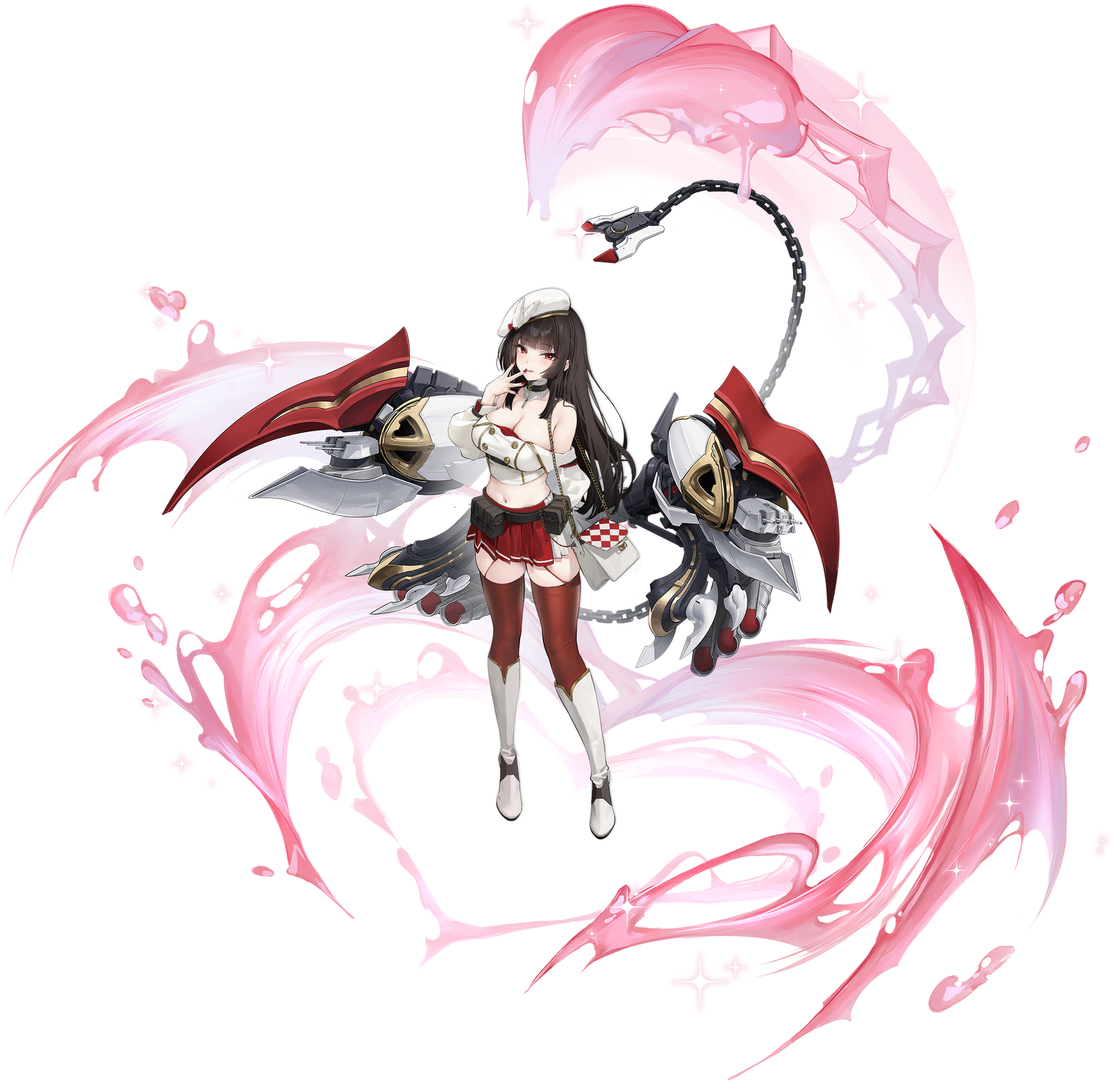person: (258, 269, 673, 949)
